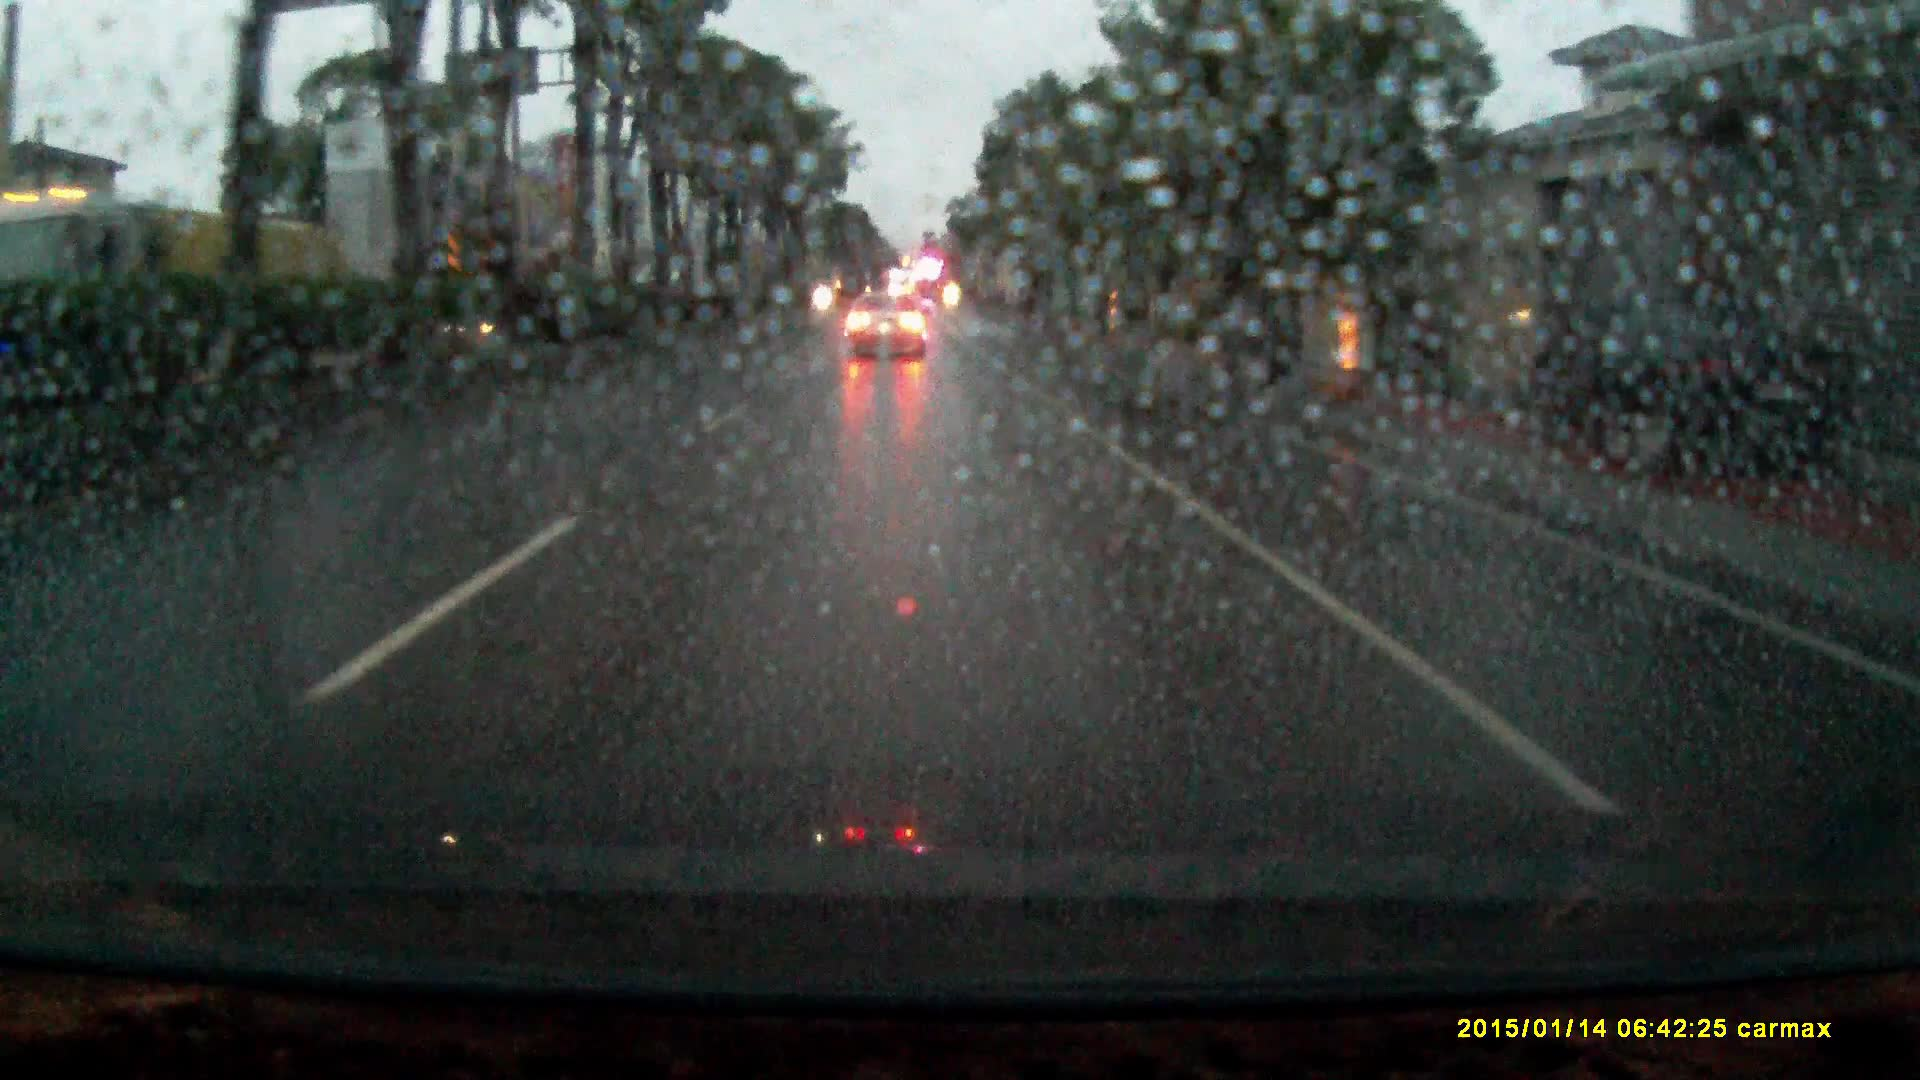vehicle: (1505, 299, 1822, 487), (29, 206, 353, 378), (844, 295, 928, 371)
